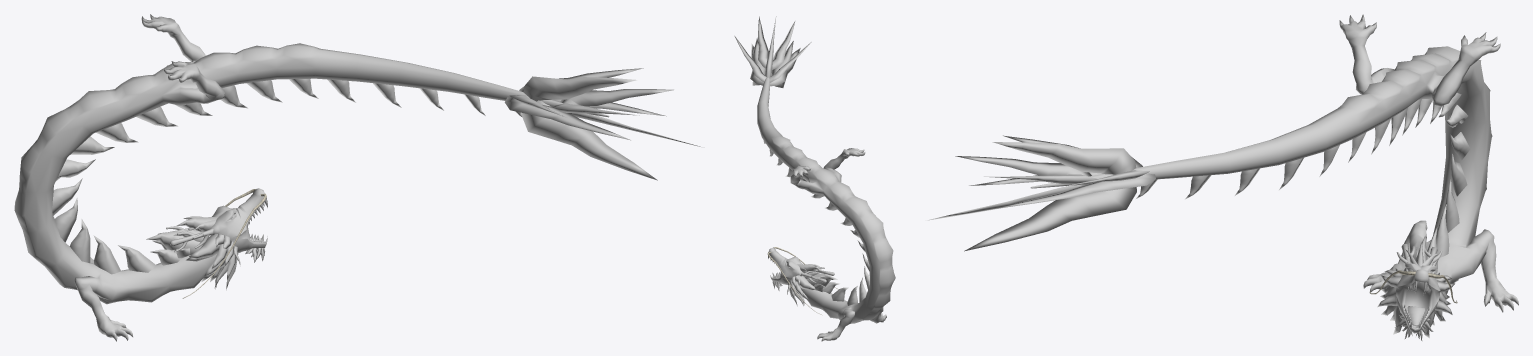
The model's file is dungeon_01.fbx.
3 renders of one model, left to right at view 1: azimuth 30°, elevation 25°; view 2: azimuth 150°, elevation 25°; view 3: azimuth 270°, elevation 25°, orthographic. The views are drawn at different scales.
Visible parts, largest first — view 1: polySurface672, polySurface668, polySurface670, polySurface674; view 2: polySurface672, polySurface670, polySurface668, polySurface674, polySurface678; view 3: polySurface672, polySurface670, polySurface668, polySurface674.
Boxes of the visible parts, x1,y1,x2,y2 form: polySurface672: (14,14,609,341); polySurface668: (52,79,521,274); polySurface670: (504,68,700,180); polySurface674: (186,233,240,290); polySurface672: (757,77,895,341); polySurface670: (734,16,811,87); polySurface668: (763,140,869,305); polySurface674: (787,275,816,306); polySurface678: (767,247,845,314); polySurface672: (1030,14,1518,333); polySurface670: (927,135,1155,251); polySurface668: (1136,93,1470,273); polySurface674: (1377,268,1454,338).
Bounding box in the file's own units: 194 × 120 × 194.
